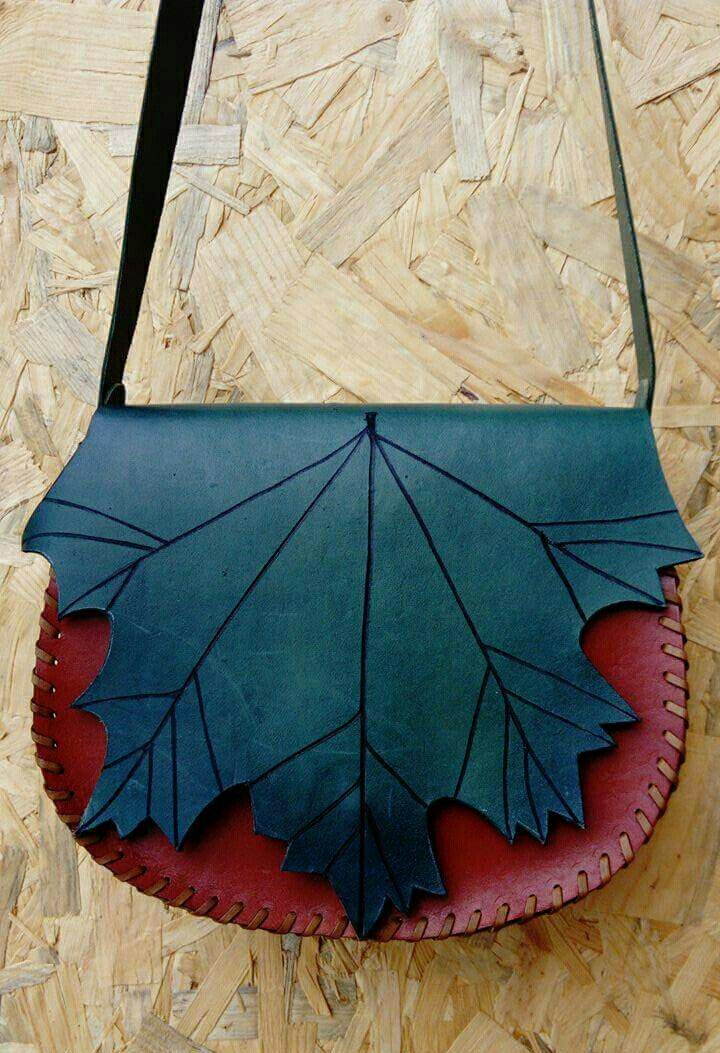cuero: (20, 405, 705, 943)
